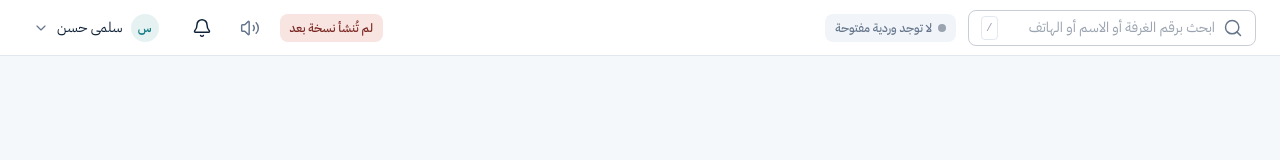
Test: top bar search: typing a room number lists rooms from the board; Esc clears
Type "2" into the dropdown labelled "ابحث برقم الغرفة أو الاسم أو الهاتف" at point(1110, 28), box [1006, 16, 1215, 38]
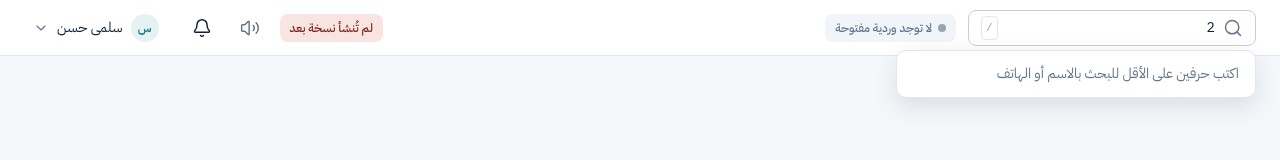
Now the list is shown, box [896, 50, 1256, 98]
Press Escape in the dropdown named "ابحث برقم الغرفة أو الاسم أو الهاتف", box [1006, 16, 1215, 38]
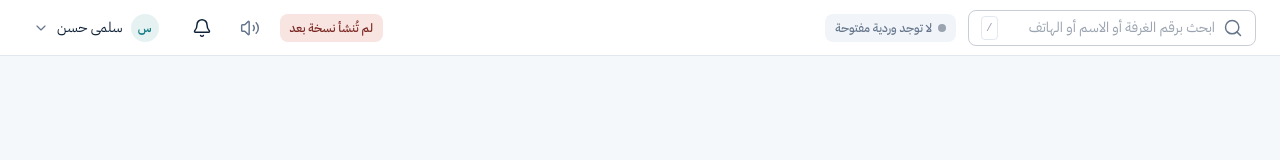
Now the dropdown labelled "ابحث برقم الغرفة أو الاسم أو الهاتف" is empty, box [1006, 16, 1215, 38]
Now the list is gone
